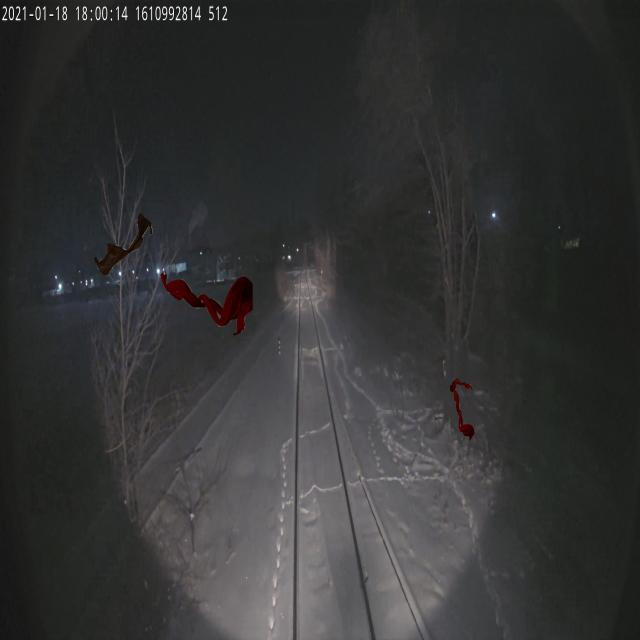floating object: (159, 272, 253, 336), (94, 212, 153, 276), (449, 377, 475, 441)
